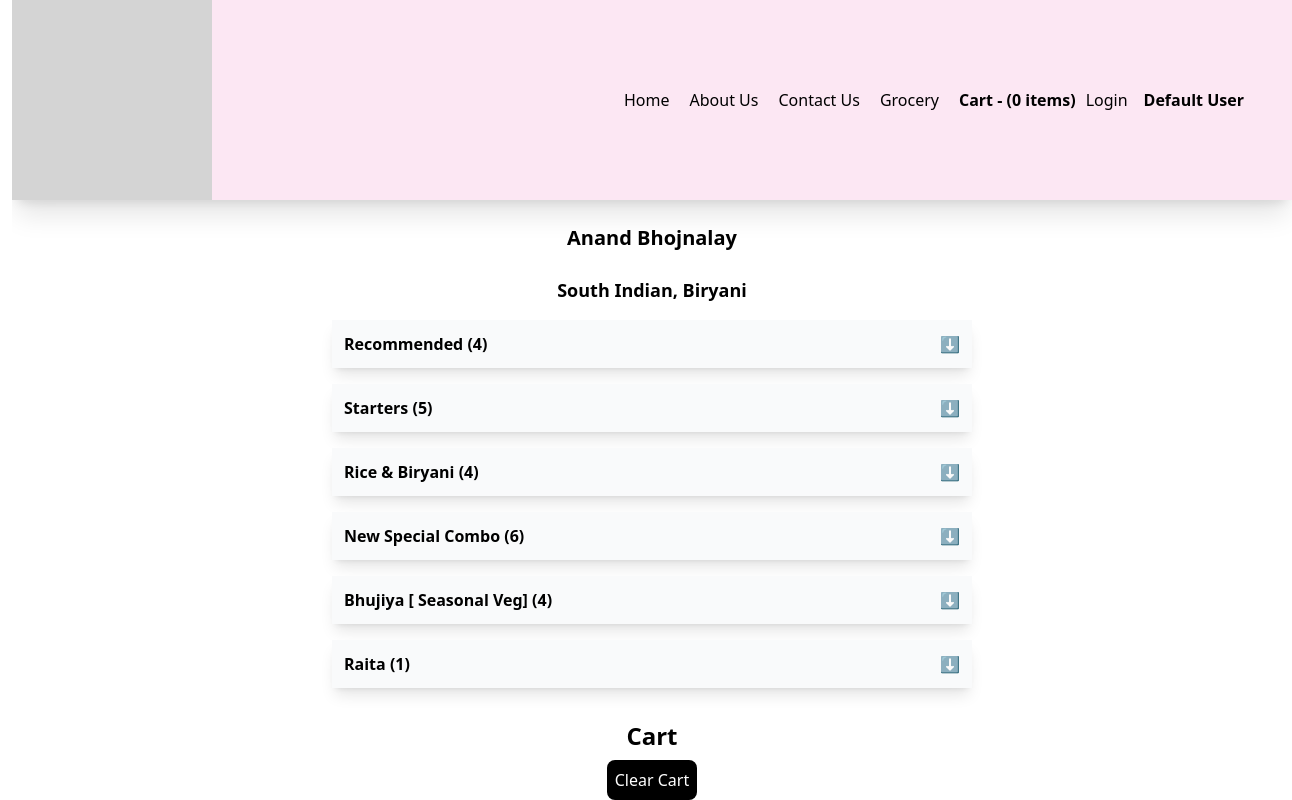
Scenario: should Load Restaurant Menu Component
This screenshot has width=1292, height=800.
Click the text "Starters (5)".
click(388, 408)  # box x1=344 y1=396 x2=432 y2=420
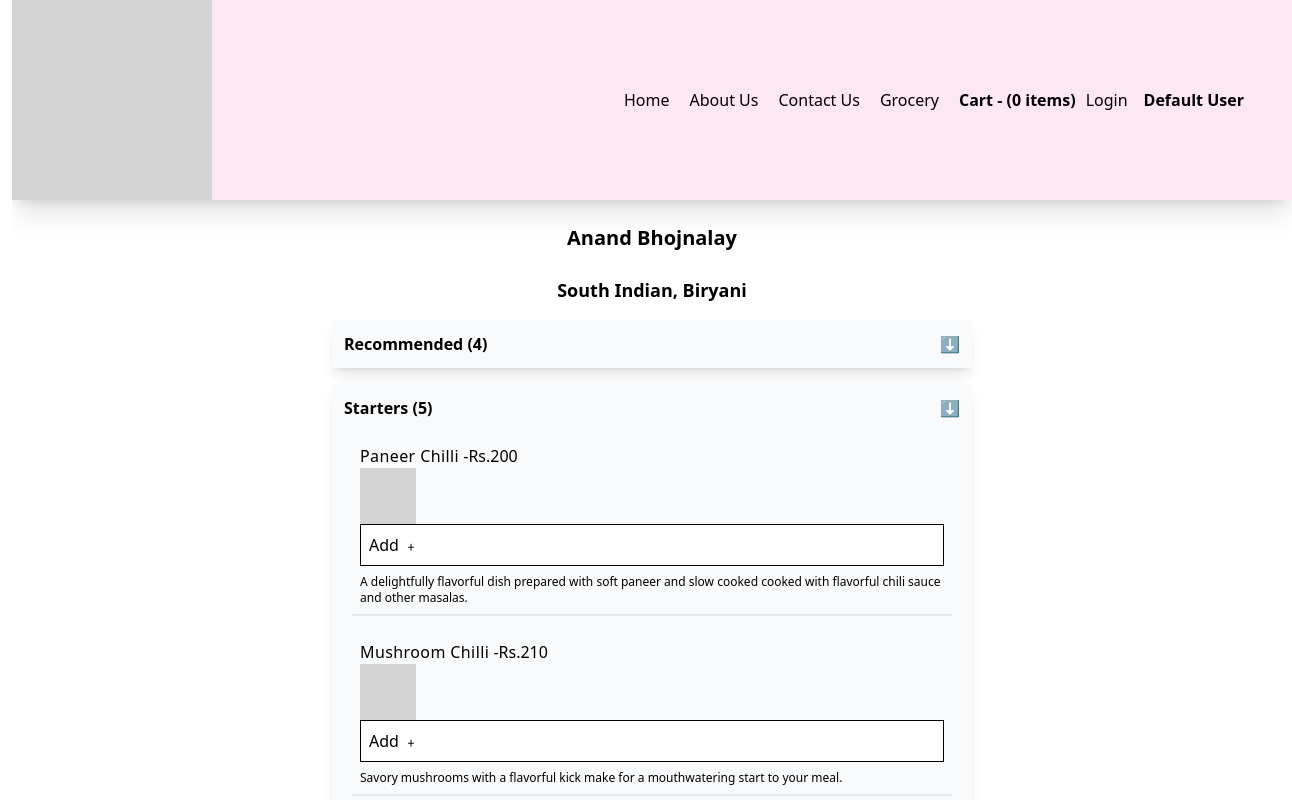
Now the number of elements with test id "foodItems" is 5
Click the text "Add ﹢" below "Paneer Chilli".
click(652, 545)  # box x1=360 y1=524 x2=944 y2=566
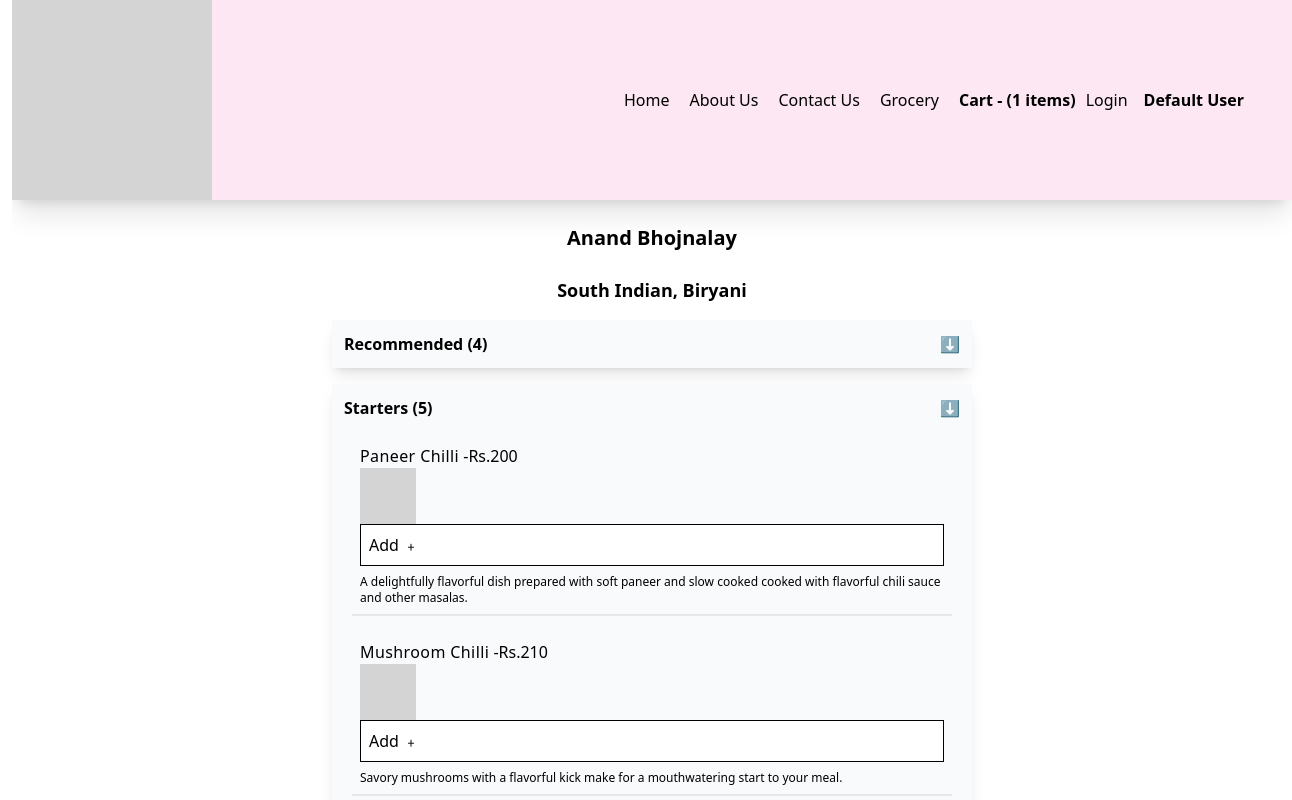
Now the link "Cart - (1 items)" is shown, box x1=959 y1=89 x2=1076 y2=111
Click the text "Add ﹢" below "Mushroom Chilli".
click(652, 741)  # box x1=360 y1=720 x2=944 y2=762
(page scrolled)
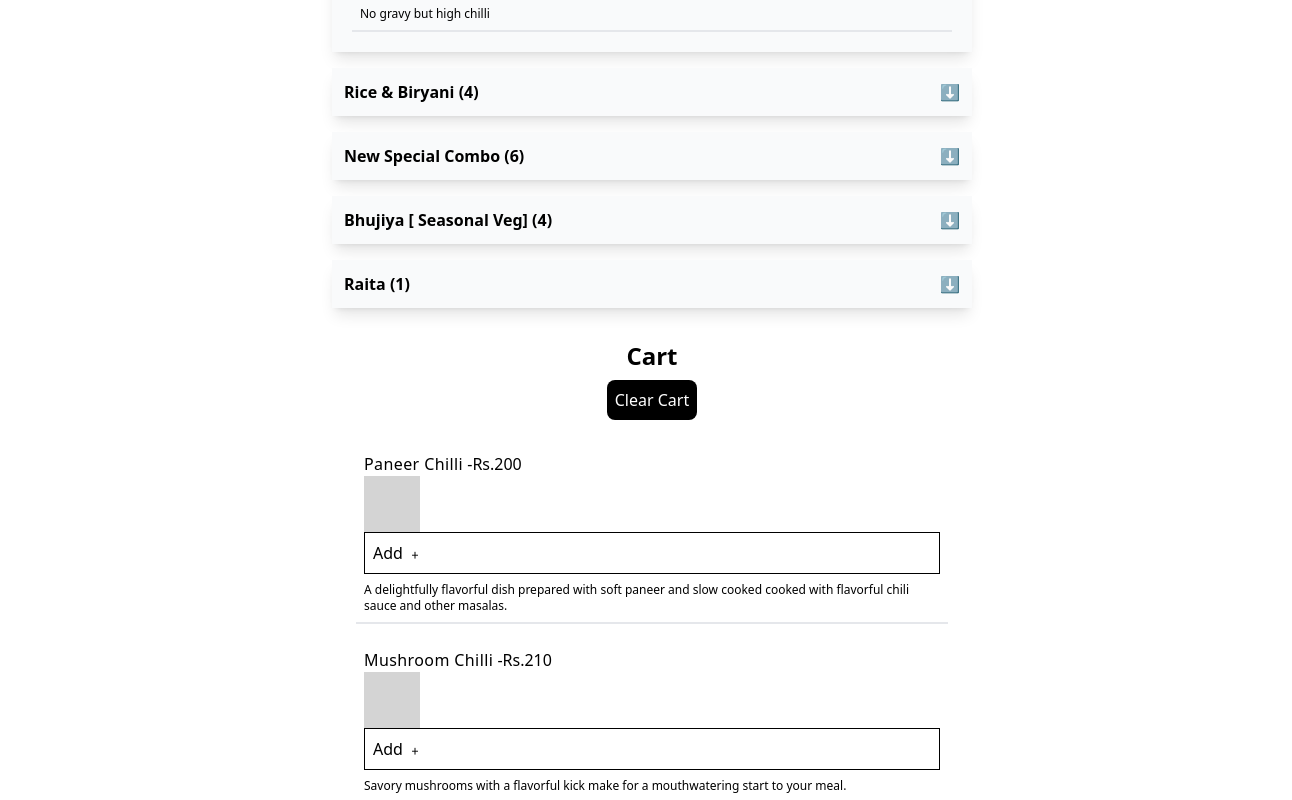
Now the number of elements with test id "foodItems" is 7
Click the button "Clear Cart".
click(652, 400)  # box x1=607 y1=380 x2=697 y2=420
(page scrolled)
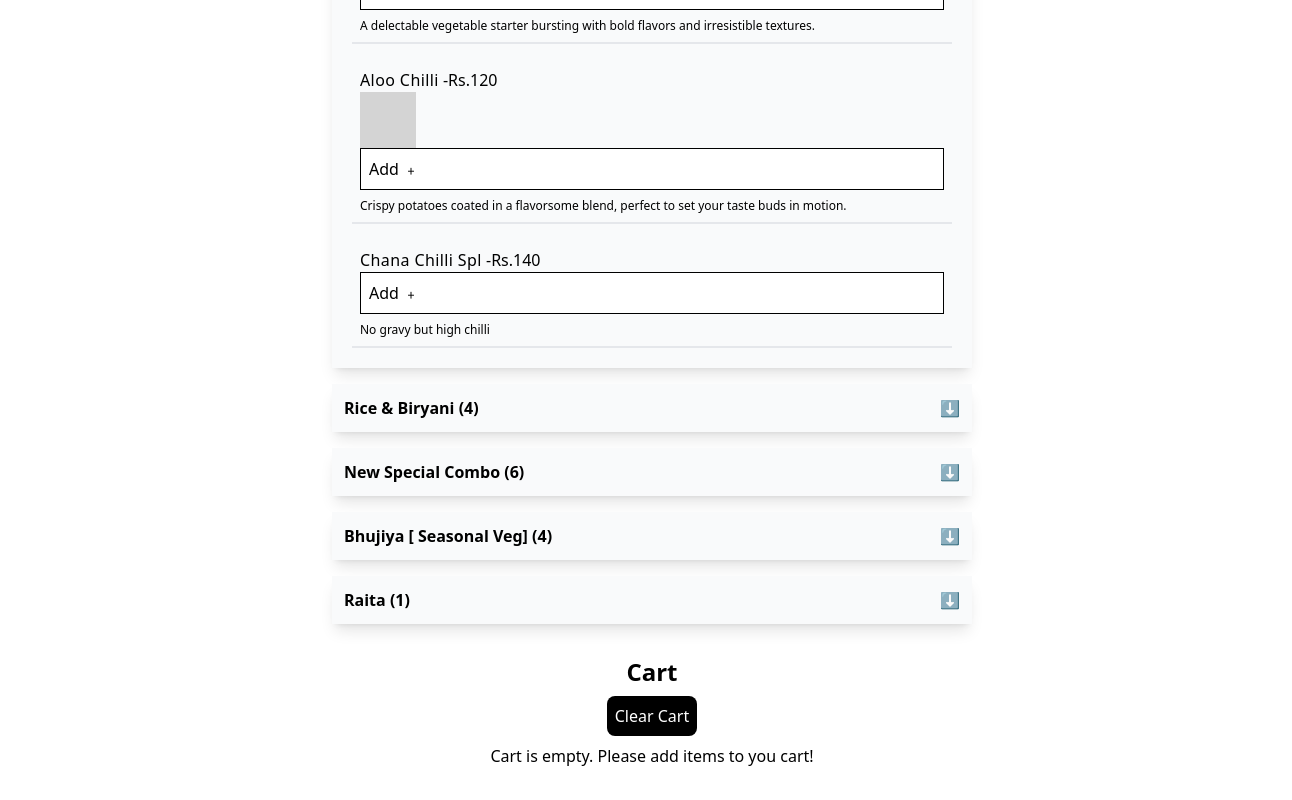
Now the number of elements with test id "foodItems" is 5
Now the heading "Cart is empty. Please add items to you cart!" is shown, box x1=490 y1=745 x2=814 y2=767
